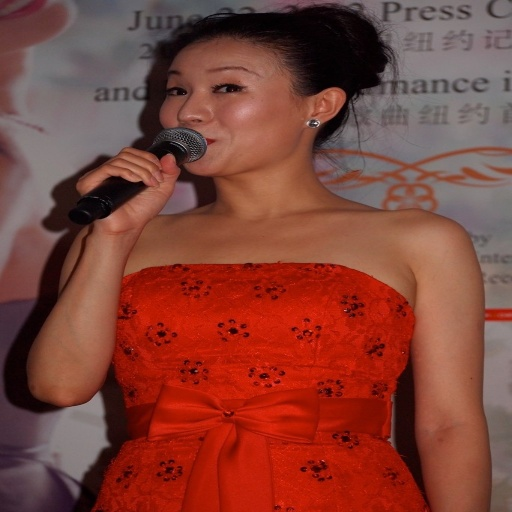hand: (74, 144, 181, 238)
